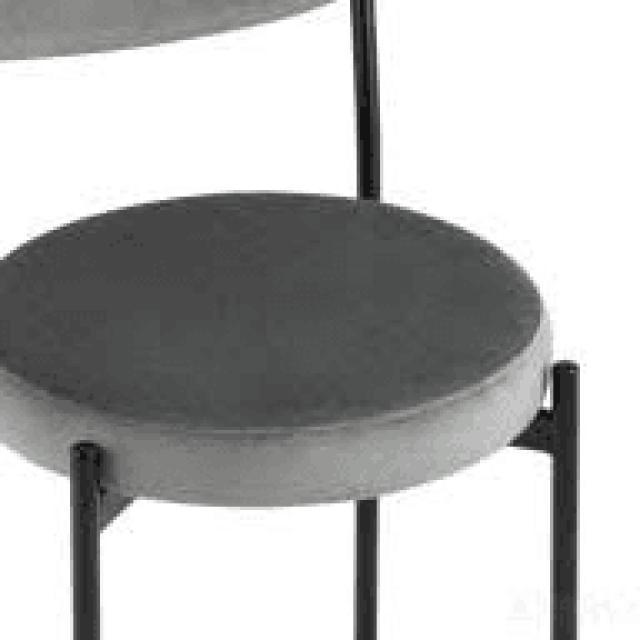chair: (0, 0, 590, 640), (0, 0, 553, 511)
